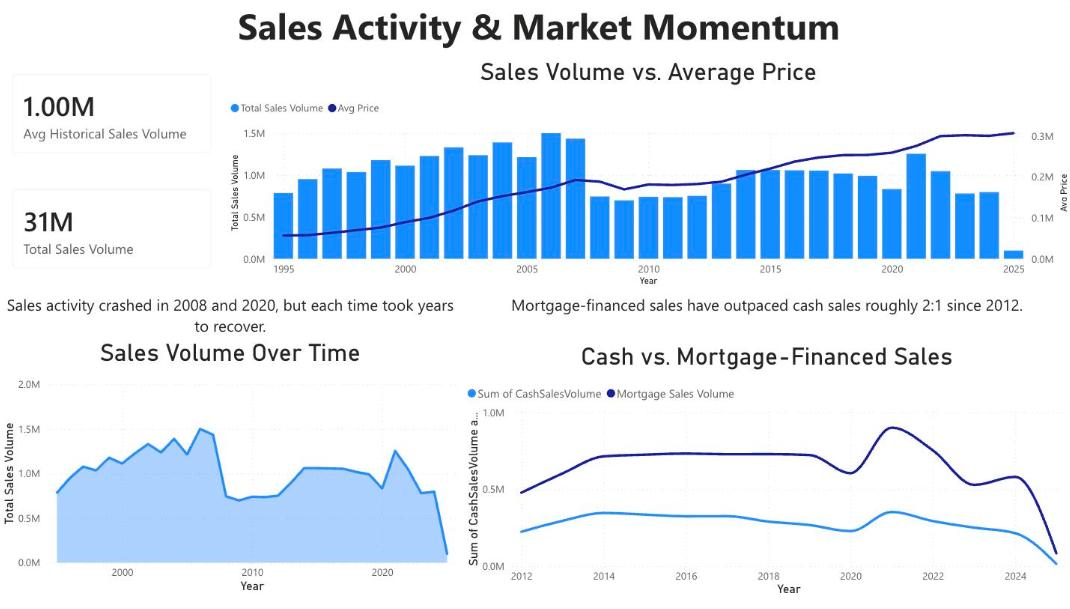

This screenshot's page, from the dashboard's own definition file:
{"tool":"powerbi","page":{"name":"Sales Activity & Market Momentum","canvas":[1280,720],"ordinal":3},"visuals":[{"type":"textbox","box":[9.7,0,1270.3,75.3],"z":0},{"type":"areaChart","title":"Sales Volume Over Time","fields":{"Category":["DateTable.Year"],"Y":["HPI.Total Sales Volume"]},"box":[0,409.5,553.6,305],"z":1000},{"type":"cardVisual","fields":{"Data":["HPI.Avg Historical Sales Volume"]},"box":[0,75.1,271.8,128],"z":2000},{"type":"cardVisual","fields":{"Data":["HPI.Total Sales Volume"]},"box":[0,212.9,271.8,128],"z":3000},{"type":"lineChart","title":"Cash vs. Mortgage-Financed Sales","fields":{"Category":["DateTable.Year"],"Y":["Sum(HPI.CashSalesVolume)","HPI.Mortgage Sales Volume"]},"box":[553.6,414.6,726.4,305],"z":4000},{"type":"textbox","box":[0,349.4,553.6,60.1],"z":5000},{"type":"textbox","box":[553.6,349.4,726.4,60.1],"z":6000},{"type":"lineClusteredColumnComboChart","title":"Sales Volume vs. Average Price","fields":{"Category":["DateTable.Year"],"Y":["HPI.Total Sales Volume"],"Y2":["HPI.Avg Price"]},"box":[271.8,75.1,1008.2,274.3],"z":7000}]}

Visuals, with their boxes in screenshot pixels (x1, y1, x2, y2), scaled from the page's 1280x720 canvas onto the 1070x609 screenshot:
textbox: <bbox>8, 0, 1069, 64</bbox>
"Sales Volume Over Time" areaChart: <bbox>0, 346, 463, 604</bbox>
cardVisual - HPI.Avg Historical Sales Volume: <bbox>0, 64, 227, 172</bbox>
cardVisual - HPI.Total Sales Volume: <bbox>0, 180, 227, 288</bbox>
"Cash vs. Mortgage-Financed Sales" lineChart: <bbox>463, 351, 1069, 608</bbox>
textbox: <bbox>0, 296, 463, 346</bbox>
textbox: <bbox>463, 296, 1069, 346</bbox>
"Sales Volume vs. Average Price" lineClusteredColumnComboChart: <bbox>227, 64, 1069, 296</bbox>
